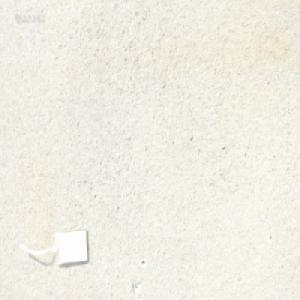LuggageTag: (17, 227, 90, 269)
